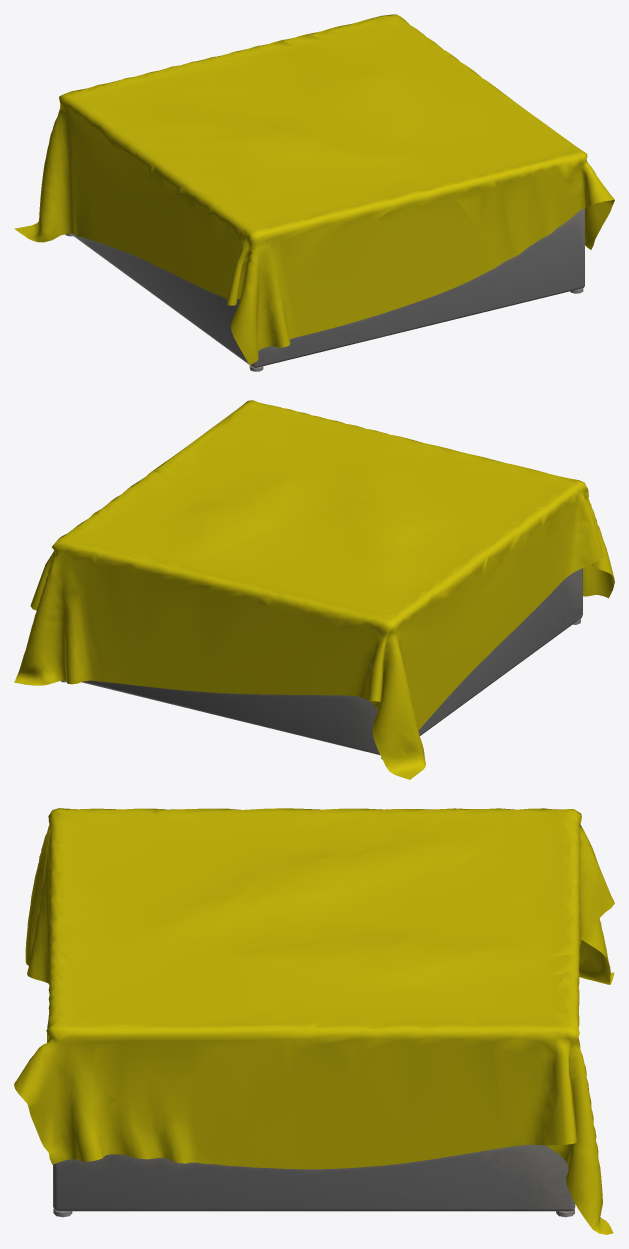
File: Table.fbx
3 views of the same model, one above another, from view 1: azimuth 30°, elevation 25°; view 2: azimuth 150°, elevation 25°; view 3: azimuth 270°, elevation 25° (orthographic). The views are drawn at different scales.
Parts seen in each view (by area): view 1: coffee table; view 2: coffee table; view 3: coffee table.
Part boxes in pixels (x1,y1,x2,y2): coffee table: [14, 14, 614, 371]; coffee table: [14, 400, 614, 779]; coffee table: [14, 808, 614, 1234].
Bounding box in the file's own units: 110 × 37.48 × 106.
